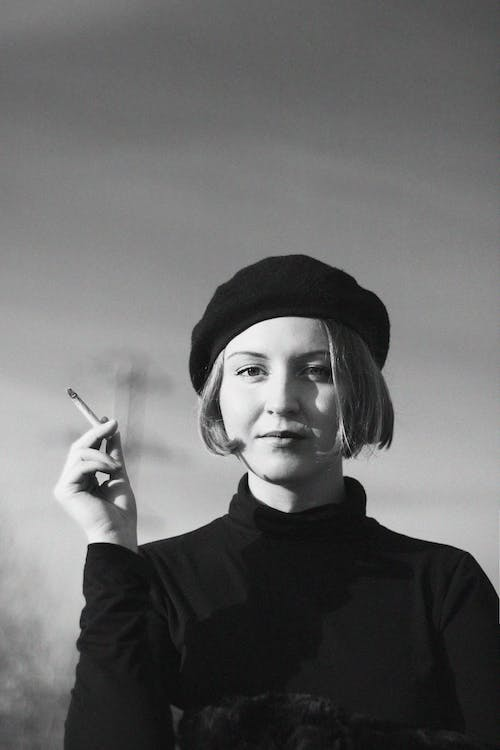cigarette: (65, 384, 102, 430)
